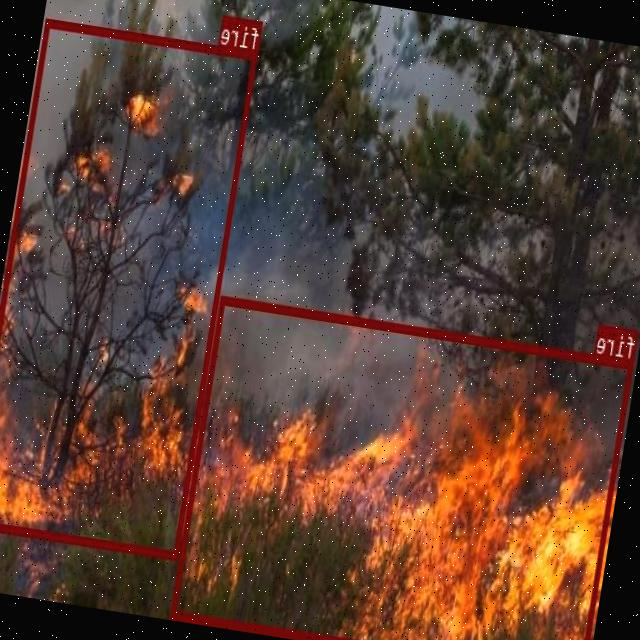fire: (172, 294, 635, 640), (0, 18, 260, 558)
